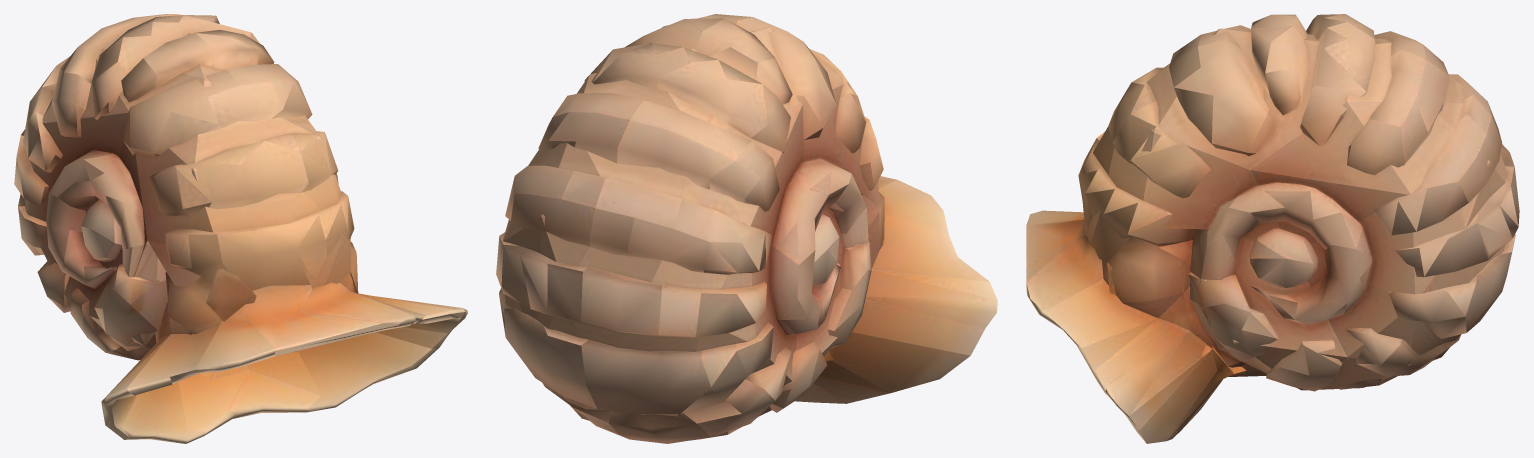
The model's file is spiral-shell.glb.
3 renders of one model, left to right at view 1: azimuth 30°, elevation 25°; view 2: azimuth 150°, elevation 25°; view 3: azimuth 270°, elevation 25°, orthographic. The views are drawn at different scales.
Parts seen in each view (by area): view 1: mesh_node; view 2: mesh_node; view 3: mesh_node.
Boxes of the visible parts, left/top/right/bottom form: mesh_node: left=14, top=14, right=467, bottom=443; mesh_node: left=496, top=14, right=997, bottom=443; mesh_node: left=1026, top=14, right=1519, bottom=443.
Size of the model in its own units: 0.9062 by 0.8379 by 1.
1 material, 1 textured.
